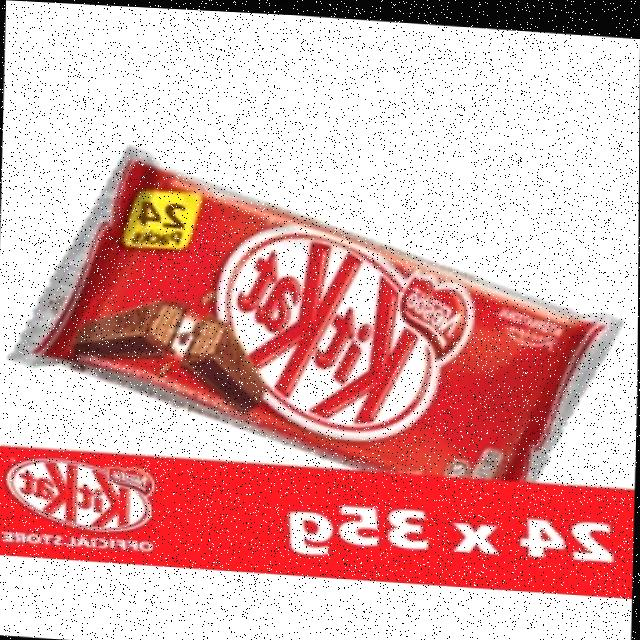kitkat: (6, 139, 626, 477)
